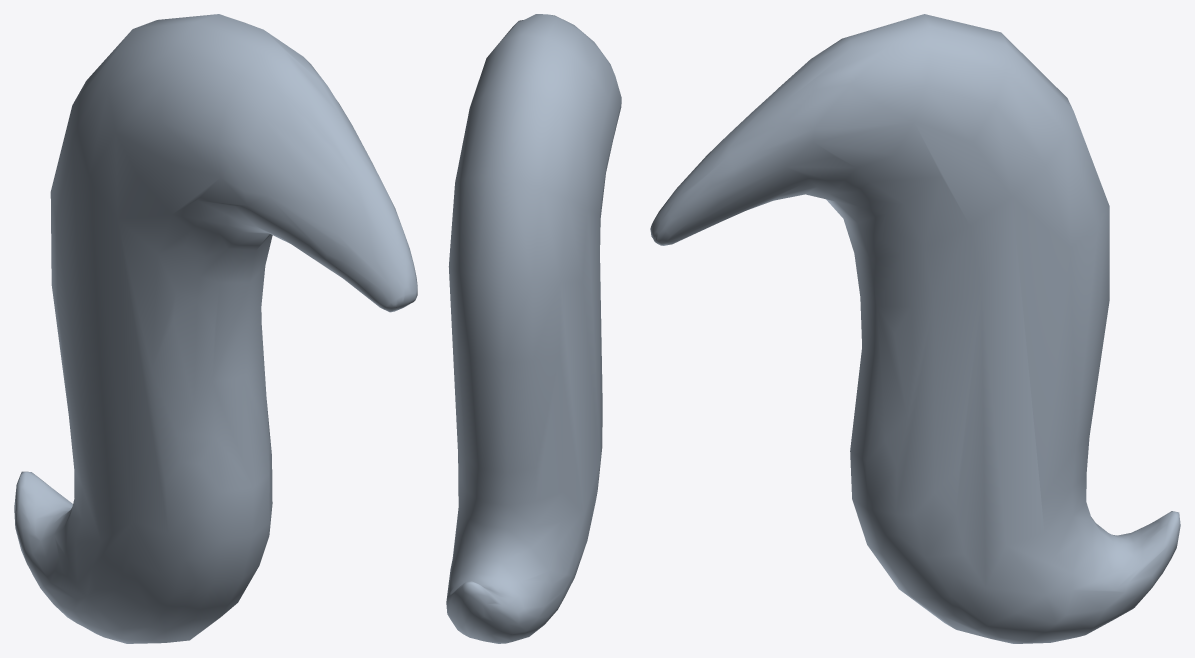
Rendered from Tail_14.fbx.
The picture shows the model from 3 angles, left to right: view 1: azimuth 30°, elevation 25°; view 2: azimuth 150°, elevation 25°; view 3: azimuth 270°, elevation 25°; orthographic projection. The views are drawn at different scales.
Parts seen in each view (by area): view 1: Tail_14; view 2: Tail_14; view 3: Tail_14.
Boxes of the visible parts, x1,y1,x2,y2 form: Tail_14: (14, 14, 417, 643); Tail_14: (446, 14, 621, 643); Tail_14: (650, 14, 1180, 643).
Bounding box in the file's own units: 66.75 × 240 × 183.
